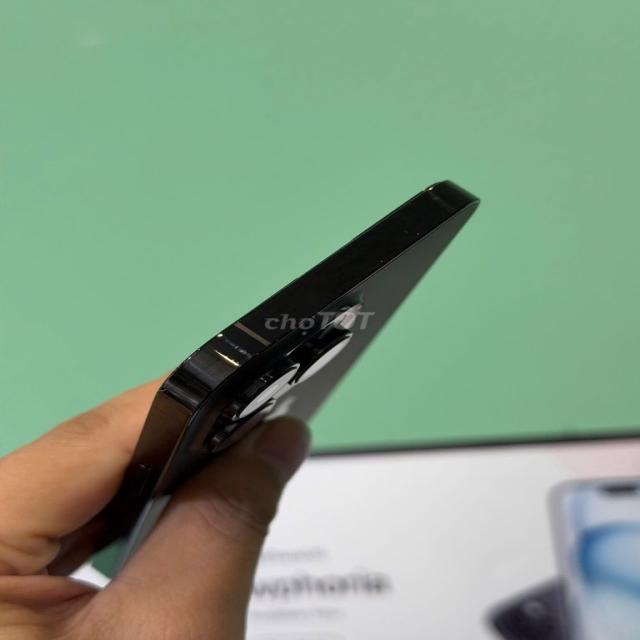gen_14: (49, 181, 477, 574)
